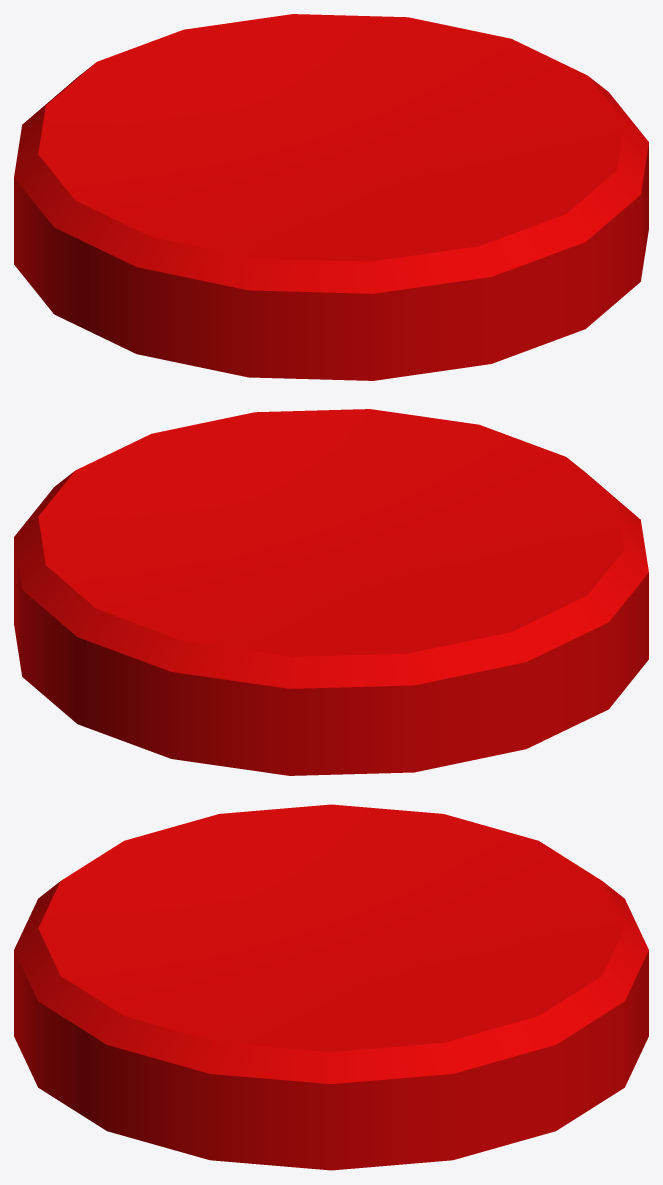
The model's file is button.fbx.
3 renders of one model, top to bottom at view 1: azimuth 30°, elevation 25°; view 2: azimuth 150°, elevation 25°; view 3: azimuth 270°, elevation 25°, orthographic.
Parts seen in each view (by area): view 1: button; view 2: button; view 3: button.
Part boxes in pixels (x1,y1,x2,y2): button: (14, 14, 648, 380); button: (14, 409, 648, 775); button: (14, 804, 648, 1170).
Size of the model in its own units: 100 by 18.75 by 100.
